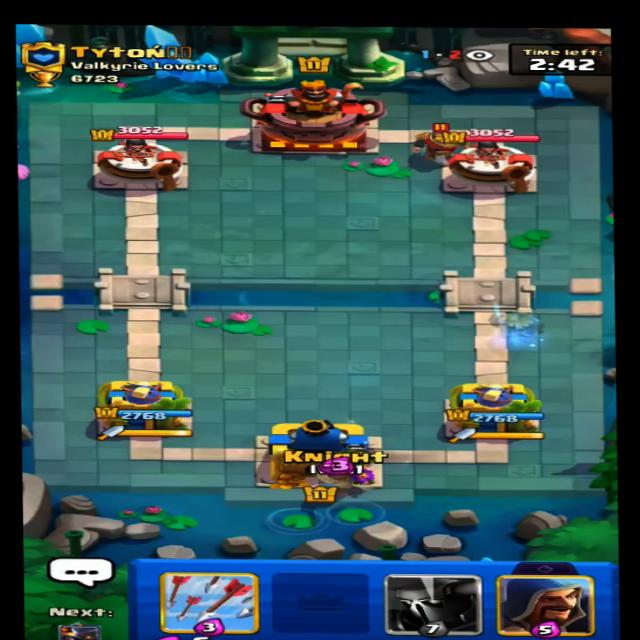knight: (403, 120, 468, 159)
